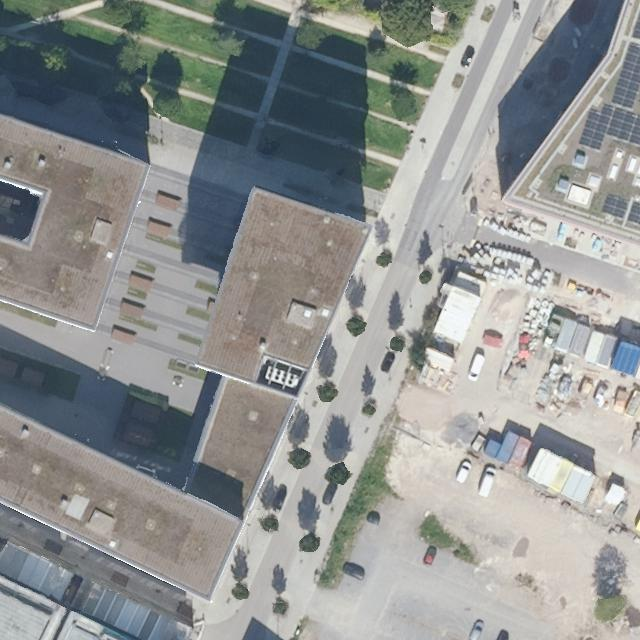PV: (577, 102, 639, 153), (609, 40, 639, 111), (599, 192, 639, 227), (631, 6, 639, 41)
